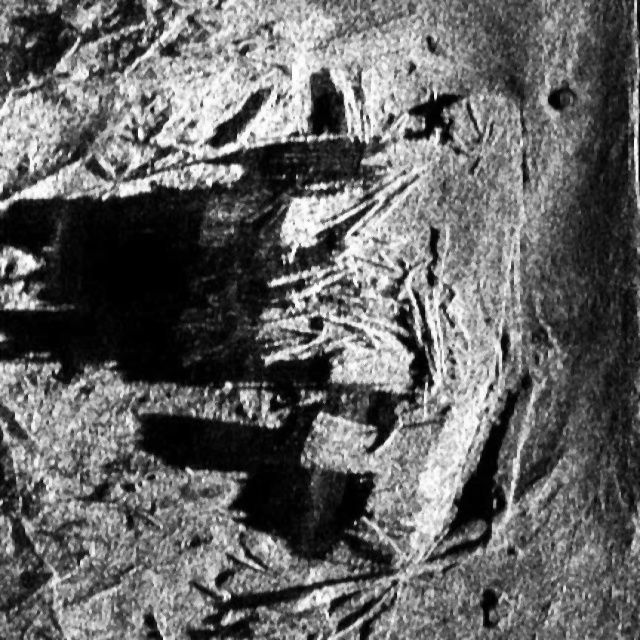Ship: (190, 83, 565, 592)
